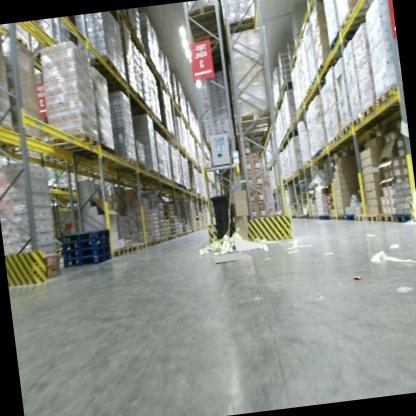pallet: (47, 128, 101, 158), (186, 1, 226, 34), (58, 221, 111, 245), (327, 22, 369, 52), (336, 2, 375, 34), (60, 231, 110, 255), (186, 22, 225, 51), (62, 247, 113, 269), (234, 104, 275, 130), (61, 241, 112, 260), (372, 84, 405, 113), (224, 11, 257, 39), (237, 124, 276, 147), (83, 51, 117, 76), (31, 249, 65, 272), (106, 152, 138, 174), (98, 65, 126, 87), (36, 262, 66, 282), (121, 158, 148, 180), (315, 55, 342, 74), (10, 28, 30, 51), (393, 207, 416, 224), (360, 99, 377, 118), (308, 73, 328, 88), (377, 209, 396, 224), (109, 244, 126, 260), (156, 127, 174, 142), (305, 83, 326, 94), (339, 119, 353, 135), (143, 167, 159, 181), (114, 9, 128, 24), (124, 240, 138, 255), (302, 91, 321, 102), (351, 111, 363, 126), (353, 211, 366, 224), (332, 130, 344, 144), (365, 211, 379, 223), (163, 201, 175, 211), (325, 137, 334, 150), (136, 239, 146, 250), (313, 147, 322, 159), (145, 237, 153, 249), (152, 236, 162, 245), (156, 171, 165, 181), (163, 211, 175, 218), (345, 212, 354, 221), (160, 233, 167, 244), (337, 213, 345, 222), (163, 207, 175, 213), (321, 143, 327, 154), (322, 213, 330, 220), (329, 213, 336, 220), (313, 212, 319, 220), (166, 215, 175, 220), (165, 233, 171, 240), (170, 231, 177, 237), (309, 212, 314, 220), (170, 228, 176, 234), (169, 223, 176, 228), (169, 219, 176, 224), (171, 235, 177, 240), (319, 213, 323, 220)
